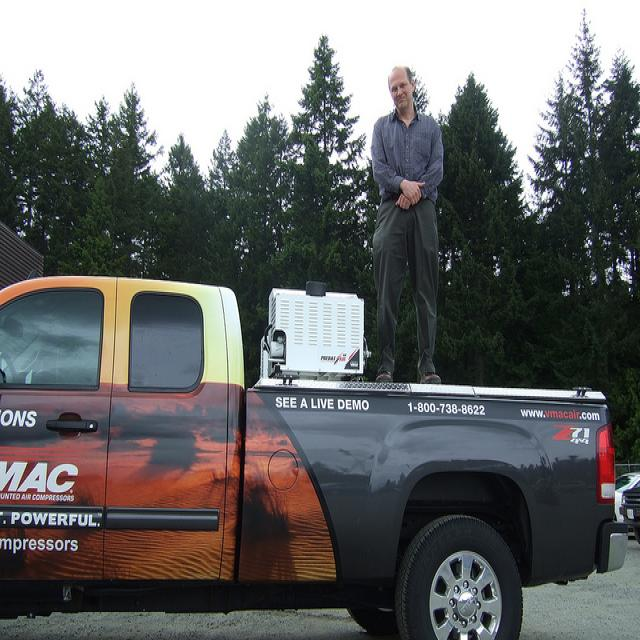Vehicle: (4, 285, 630, 630), (616, 472, 640, 530), (619, 477, 640, 543)
